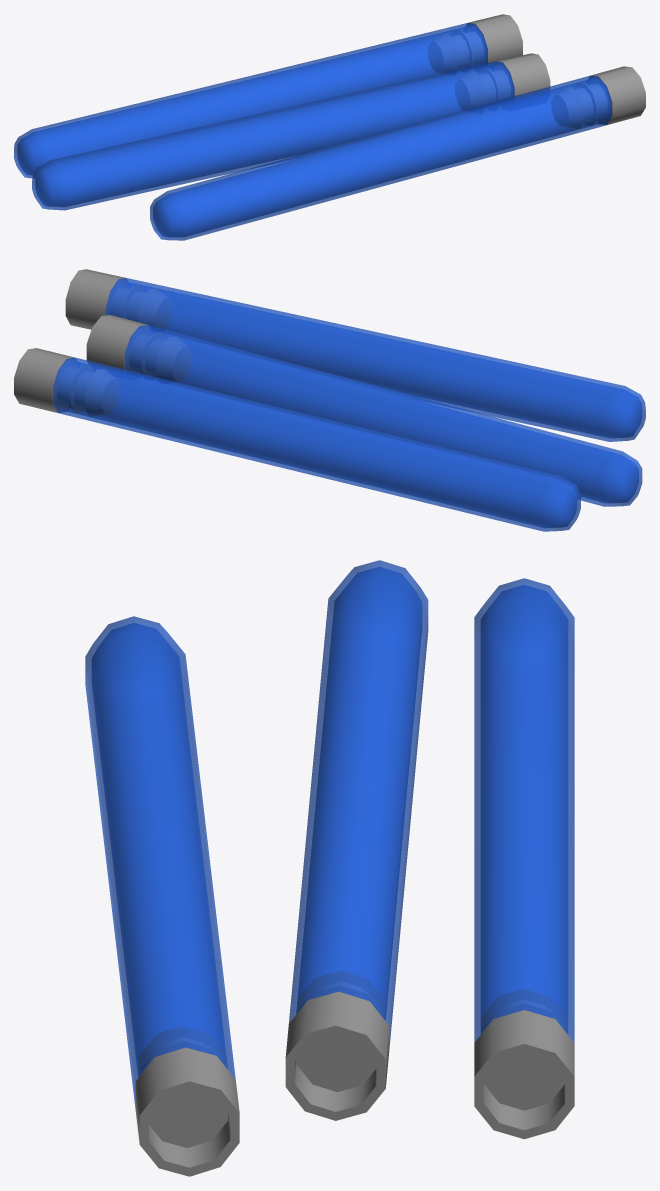
File: SM_Layed_Test_Tube4_LOD0.FBX
3 views of the same model, one above another, from view 1: azimuth 30°, elevation 25°; view 2: azimuth 150°, elevation 25°; view 3: azimuth 270°, elevation 25° (orthographic). The views are drawn at different scales.
Parts seen in each view (by area): view 1: SM_Empty_Laying_Test_Tube04; view 2: SM_Empty_Laying_Test_Tube04; view 3: SM_Empty_Laying_Test_Tube04.
Boxes of the visible parts, x1,y1,x2,y2 form: SM_Empty_Laying_Test_Tube04: [14, 14, 645, 240]; SM_Empty_Laying_Test_Tube04: [14, 269, 645, 531]; SM_Empty_Laying_Test_Tube04: [85, 560, 574, 1176].
Size of the model in its own units: 0.1925 by 0.016 by 0.0743.
